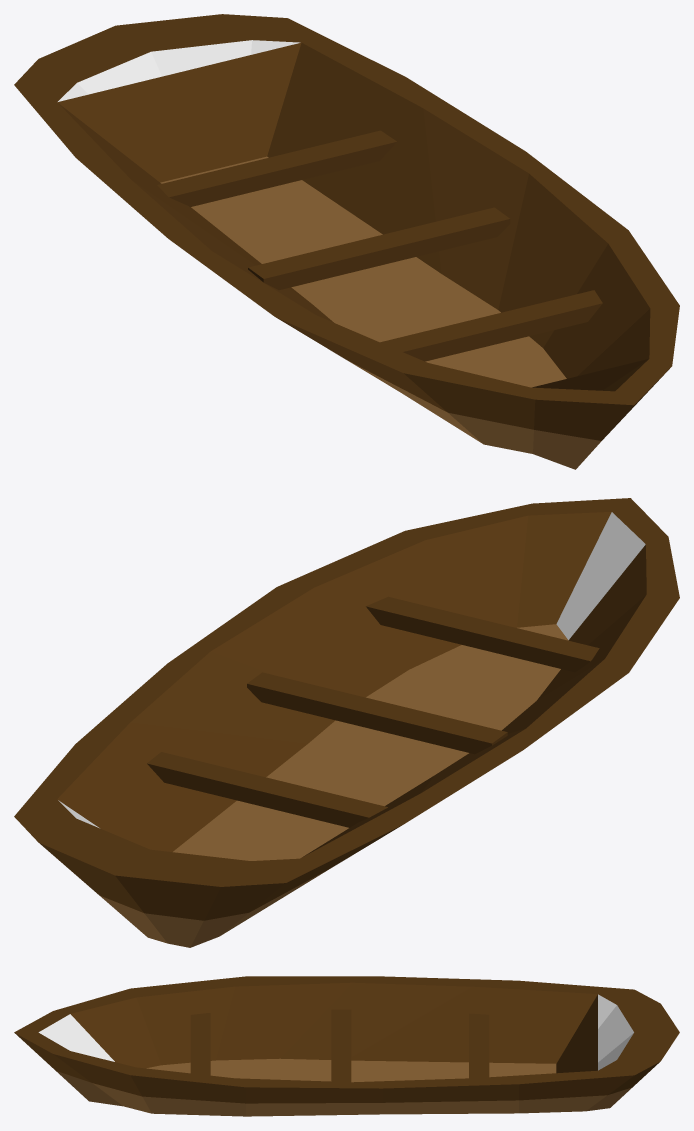
Rendered from boat.fbx.
3 views of the same model, one above another, from view 1: azimuth 30°, elevation 25°; view 2: azimuth 150°, elevation 25°; view 3: azimuth 270°, elevation 25° (orthographic). The views are drawn at different scales.
Visible parts, largest first — view 1: Circle, Cube, Cube.001, Cube.002; view 2: Circle, Cube, Cube.002, Cube.001; view 3: Circle, Cube, Cube.001, Cube.002.
Boxes of the visible parts, bbox=[...] form: Circle: bbox=[14, 14, 679, 469]; Cube: bbox=[248, 207, 510, 290]; Cube.001: bbox=[157, 130, 396, 207]; Cube.002: bbox=[380, 290, 602, 361]; Circle: bbox=[14, 498, 679, 947]; Cube: bbox=[247, 672, 507, 754]; Cube.002: bbox=[366, 596, 599, 672]; Cube.001: bbox=[147, 752, 387, 827]; Circle: bbox=[14, 976, 679, 1116]; Cube: bbox=[331, 1009, 351, 1081]; Cube.001: bbox=[469, 1013, 489, 1078]; Cube.002: bbox=[190, 1013, 210, 1075].
Size of what is drawn, in the model's own units: 299 by 85.74 by 750.
